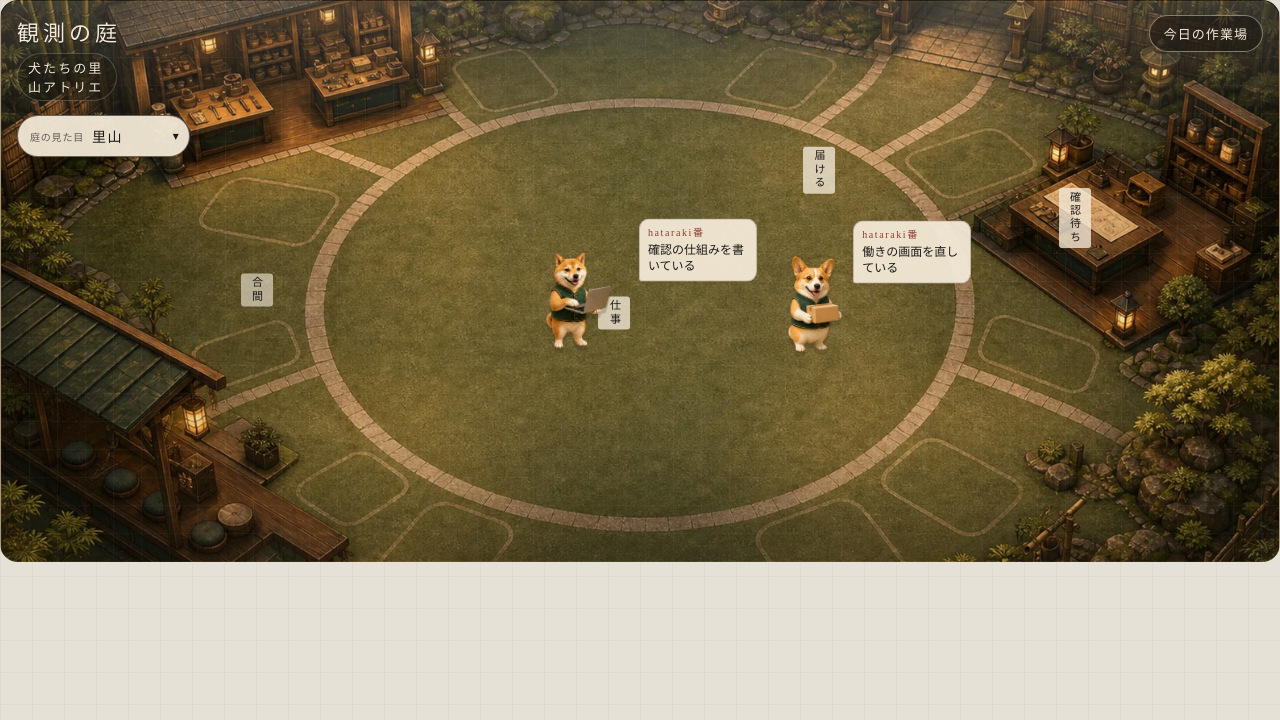
Test: ObserverGarden › lets each live stream on one place be inspected as its own everyday line
Expected: the text "hataraki番" is shown 2 times, [648,227,705,238]; [862,229,919,240]
Expected: the text "働きの画面を直している" is shown, [862,244,962,276]
Click the button without text next to "働きの画面を直している".
click(795, 302)  # box [735,242,855,362]
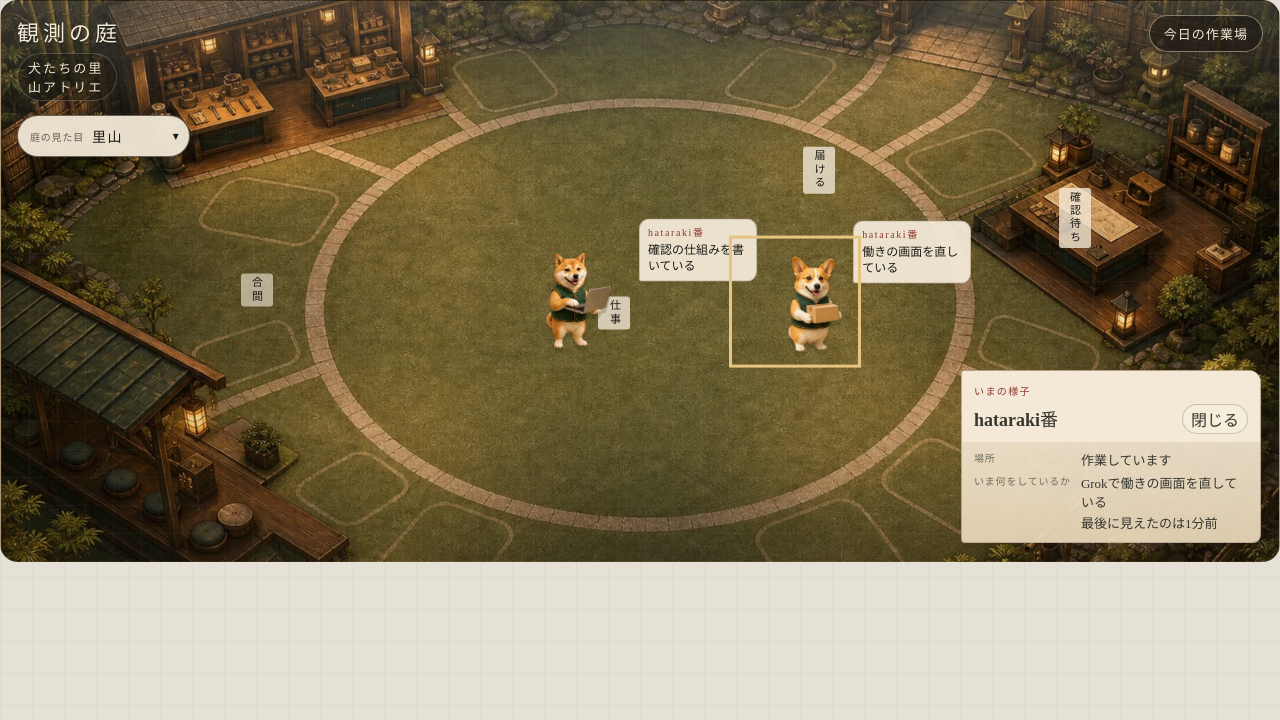
Expected: the element with test id "garden-inspect" does not show "確認の仕組みを書いている", [961,370,1261,543]
Expected: the element with test id "garden-inspect" shows "Grokで働きの画面を直している", [1081,476,1237,510]
Click the button "閉じる".
click(1215, 419)  # box [1182,404,1248,434]
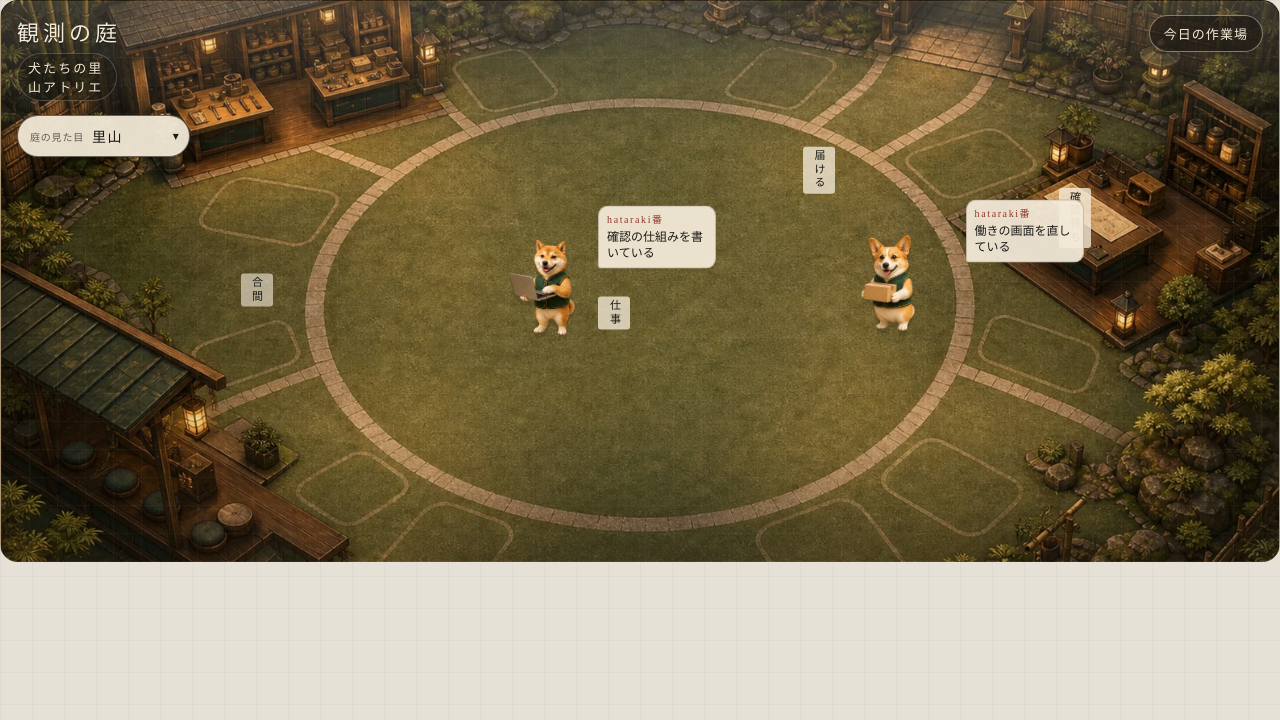
Click the button without text next to "確認の仕組みを書いている".
click(540, 287)  # box [480,227,600,347]
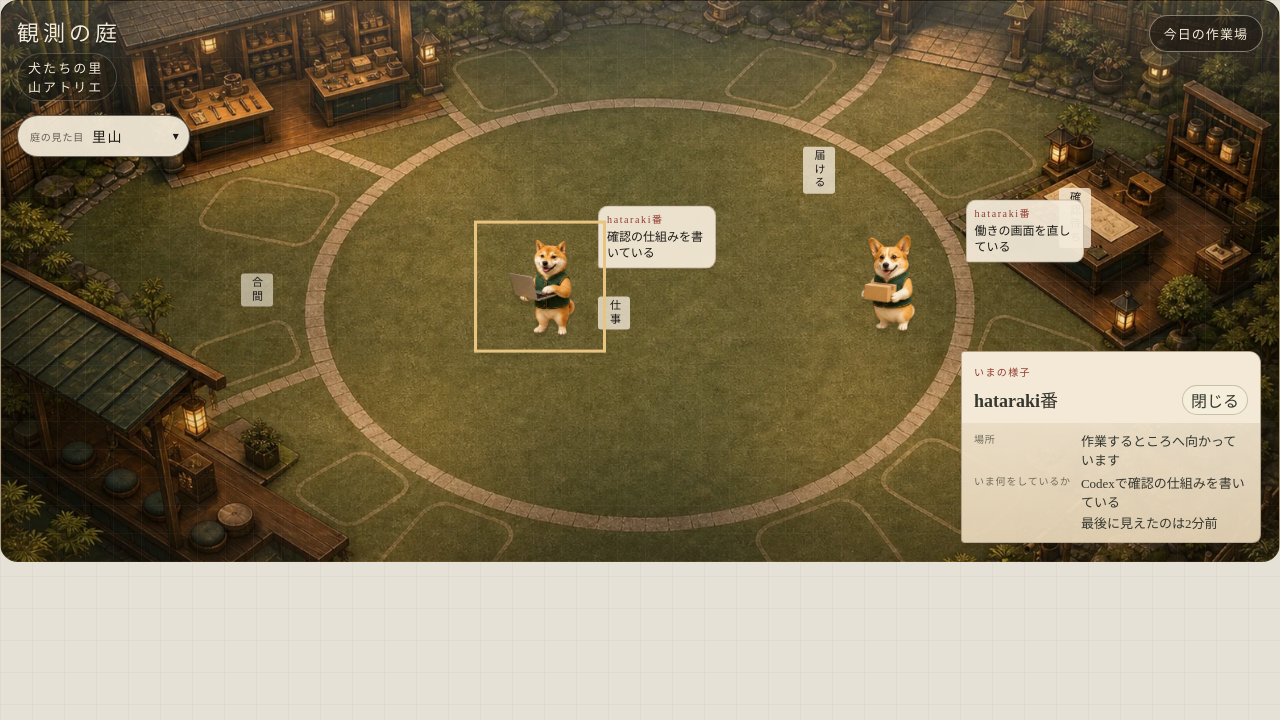
Expected: the element with test id "garden-inspect" does not show "働きの画面を直している", [961,351,1261,543]
Expected: the element with test id "garden-inspect" shows "Codexで確認の仕組みを書いている", [1081,476,1245,510]
